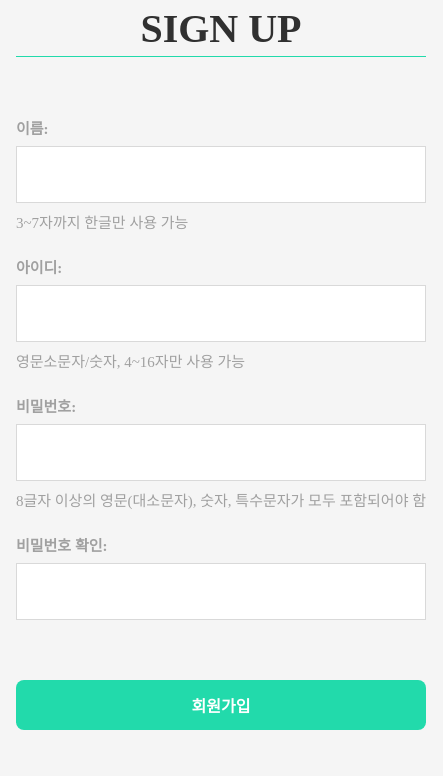
Test: SignupForm › 회원가입 실패했을 때 › 모든 항목이 입력되지 않은 경우
Click the button "회원가입": (221, 705) x1=16 y1=680 x2=426 y2=730
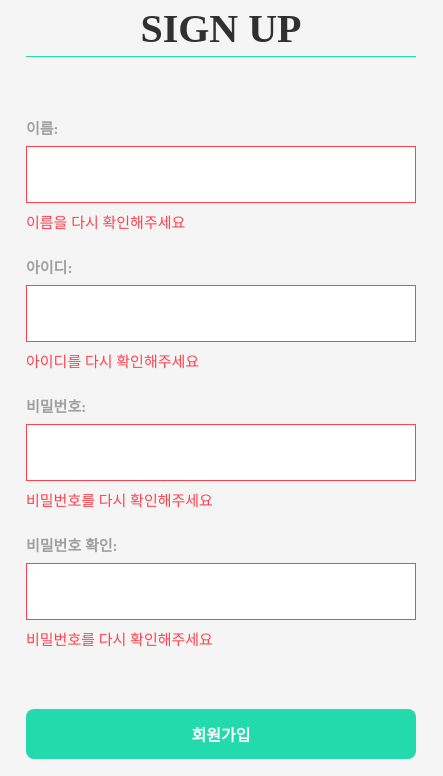
Now the text "이름을 다시 확인해주세요" is shown, box x1=26 y1=215 x2=185 y2=231
Now the text "아이디를 다시 확인해주세요" is shown, box x1=26 y1=354 x2=199 y2=370
Now the text "비밀번호를 다시 확인해주세요" below "비밀번호:" is shown, box x1=26 y1=493 x2=213 y2=509
